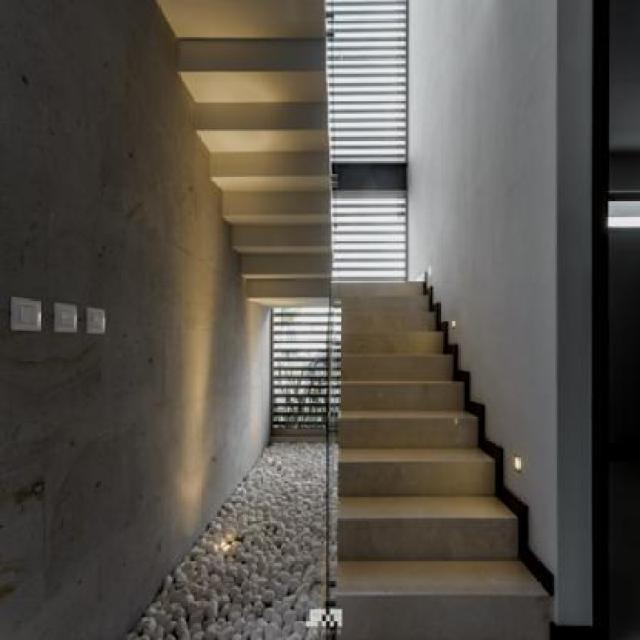stair: (321, 225, 557, 637), (151, 0, 340, 311)
